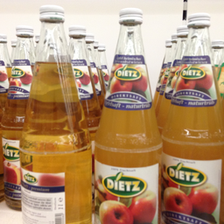juice: (18, 6, 93, 223), (96, 6, 164, 223), (159, 14, 224, 221)
